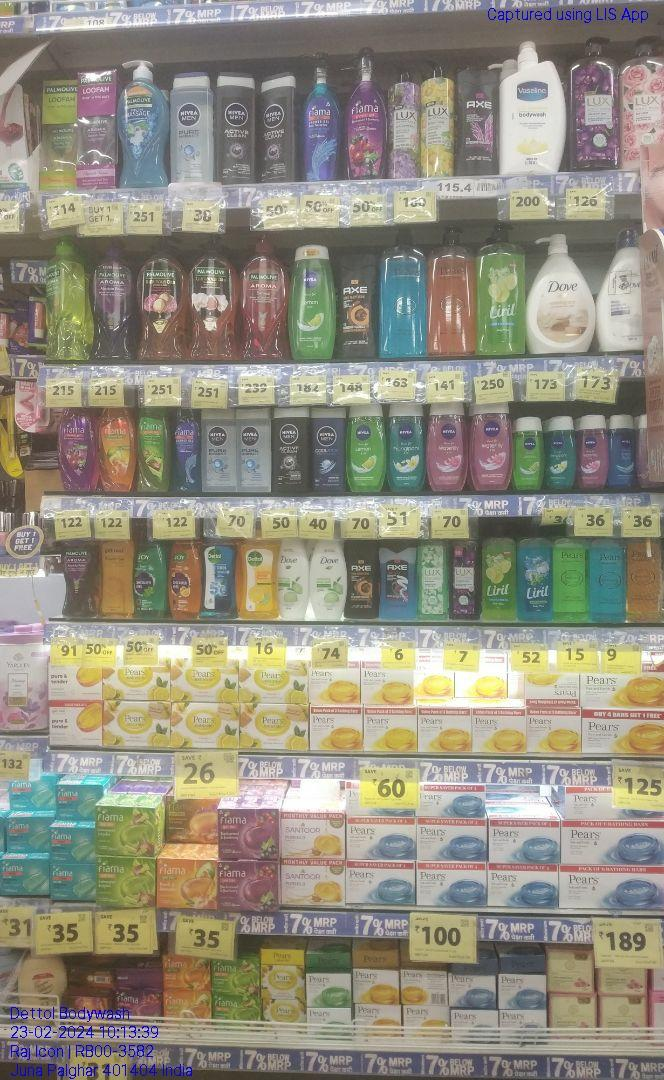Dettol_Bodywash_Cool: (203, 542, 239, 621)
Dettol_Bodywash_Refresh: (241, 535, 278, 618)
Dove_Refreshing_Body_Wash_250ML: (308, 534, 347, 622), (278, 534, 309, 620)
Fiama_Shower_Gel_Lemongrass_and_Jojoba_250ML: (136, 408, 170, 494)
Fiama_Shower_Gel_Peach_and_Avocado_250ML: (97, 405, 134, 494)
Get_Real_Shower_Gel_Moisturising_Glycerin_300ML: (101, 535, 131, 621)
Joy_Shower_Gel_Mandarin_and_Lemongrass_250ML: (169, 542, 200, 619)
Joy_Shower_Gel_Mint_and_Eucalyptus_250ML: (134, 531, 166, 620)
Liril_Cooling_Mint_Body_Wash_250ML: (516, 523, 555, 621)
Liril_Lime_and_Tea_Tree_Oil_Body_Wash_250ML: (480, 523, 517, 621)
Lux_Black_Orchid_Scent_and_Juniper_Oil_Body_Wash_245ML: (449, 539, 479, 621)
Lux_Body_Wash_Skin_Detox_Freesia_Scent_and_Alove_Vera_245ML: (418, 536, 450, 620)
Nivea_Shower_Gel_Frangipani_and_Oil_250ML: (389, 403, 428, 492)
Nivea_Shower_Gel_Lemon_and_Oil_250ML: (289, 243, 337, 360), (348, 405, 385, 494)
Nivea_Shower_Gel_Waterlily_and_Oil_250ML: (470, 401, 512, 490), (429, 405, 466, 494)
Palmolive_Aroma_Relax_250ML: (62, 540, 99, 617)
Pears_Pure_Glycerin_and_Lemon_Flower_Extracts_Body_Wash_250ML: (556, 536, 591, 619)
Pears_Pure_Glycerin_and_Mint_Extracts_Body_Wash_250ML: (592, 539, 631, 620)
